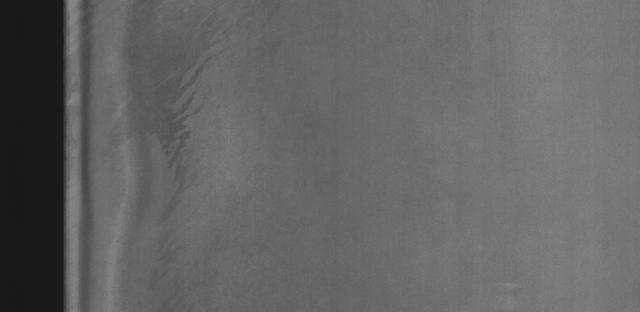water_spot: (121, 7, 228, 217)
